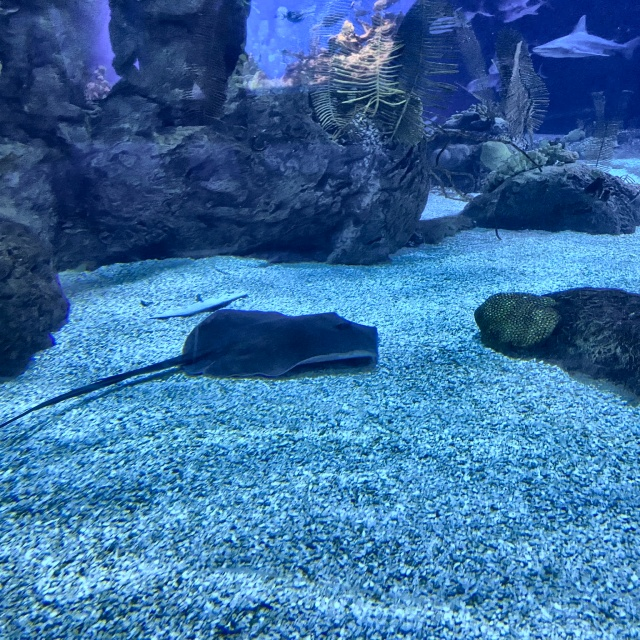fish: (466, 63, 546, 95), (430, 0, 494, 34), (499, 0, 554, 23)
shark: (530, 12, 638, 59)
stingray: (179, 307, 380, 380)
